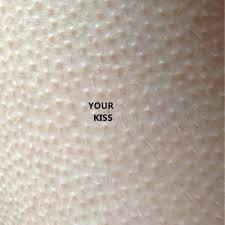Goosebumps: (0, 0, 223, 224)
